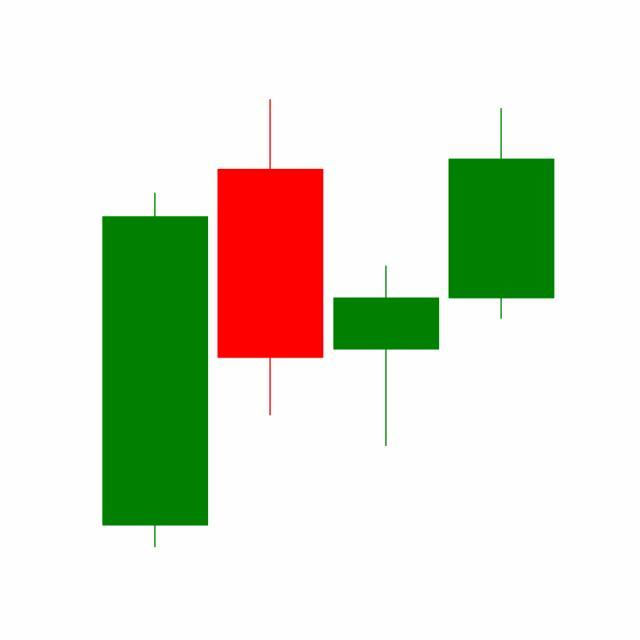Three Inside Up-Down: (211, 100, 555, 452)
